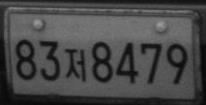3: (39, 40, 60, 82)
4: (114, 41, 138, 83)
7: (140, 42, 162, 84)
8: (14, 38, 37, 80), (91, 40, 113, 83)
9: (165, 42, 188, 84)
저: (63, 47, 86, 82)
